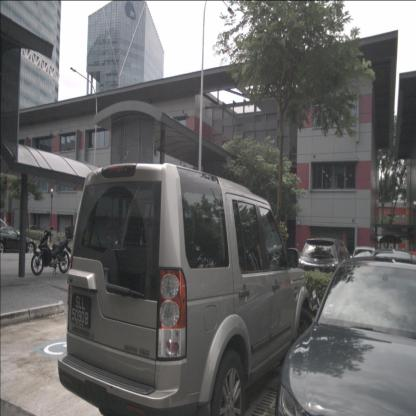vehicle-car: (58, 162, 315, 416), (274, 256, 416, 416), (296, 237, 352, 305), (0, 226, 37, 256), (352, 246, 376, 284), (22, 225, 45, 241)
vehicle-motorcycle: (30, 225, 78, 276)
